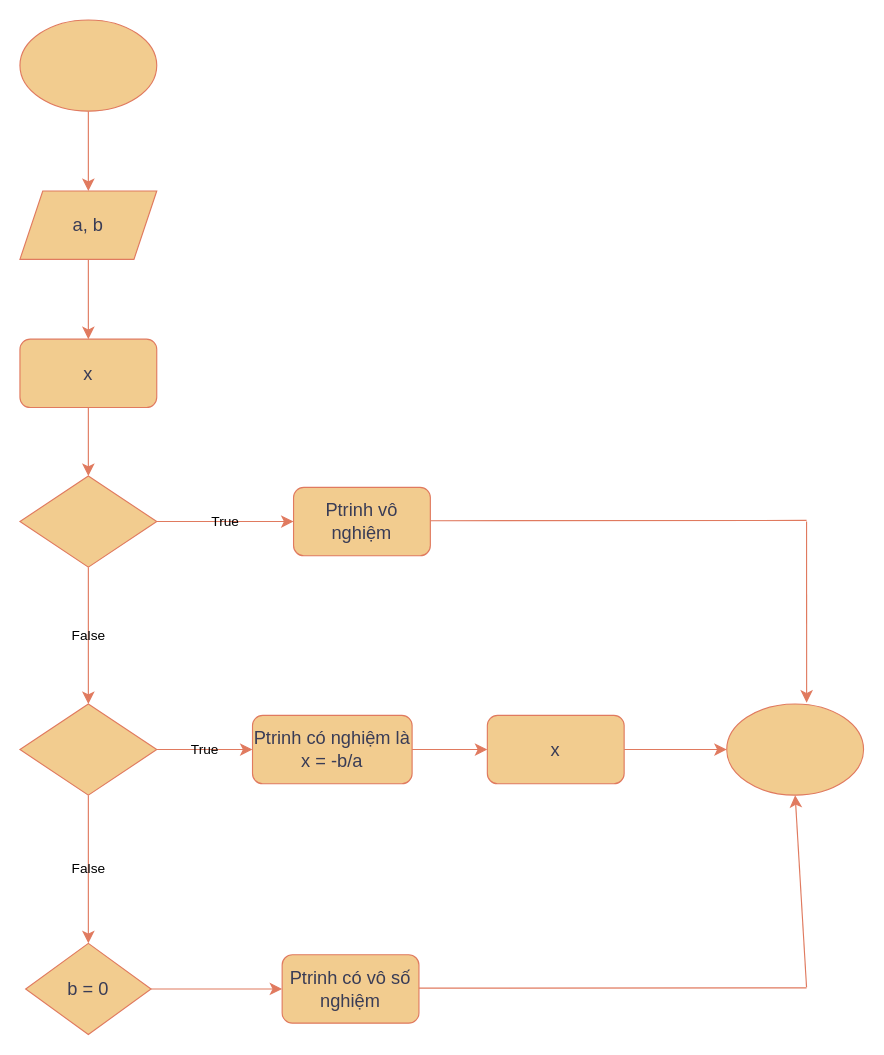
This 884x1055 diagram has some shape labels left out. Here are the shapes that lost their labels. From the top down, the box of each, then its label:
(19, 19, 157, 111): Start
(19, 475, 157, 567): a = 0
(19, 703, 157, 795): a khác 0
(726, 703, 864, 795): End
